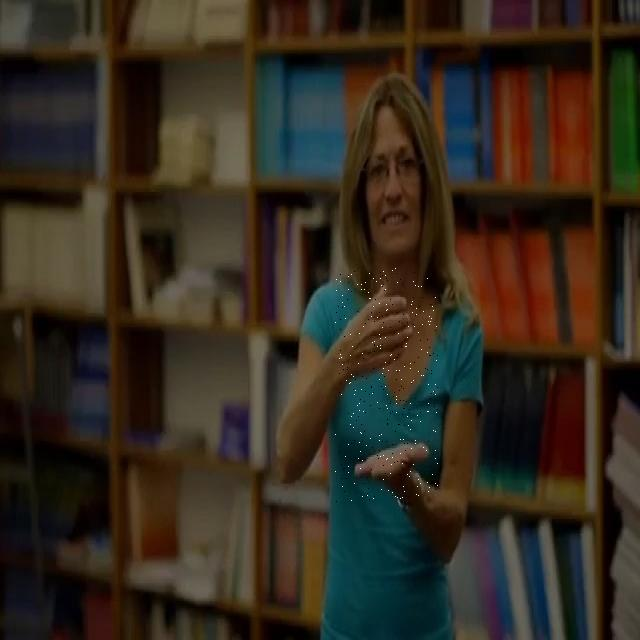cup: (335, 266, 438, 502)
